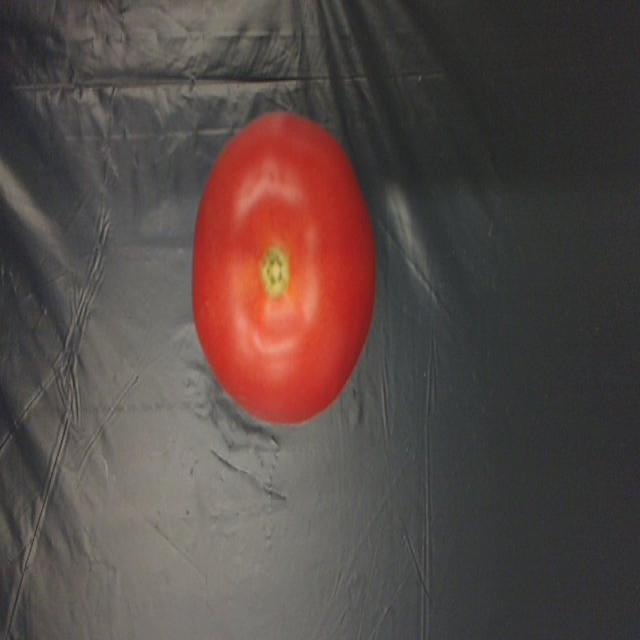kirmizi: (182, 88, 374, 446)
